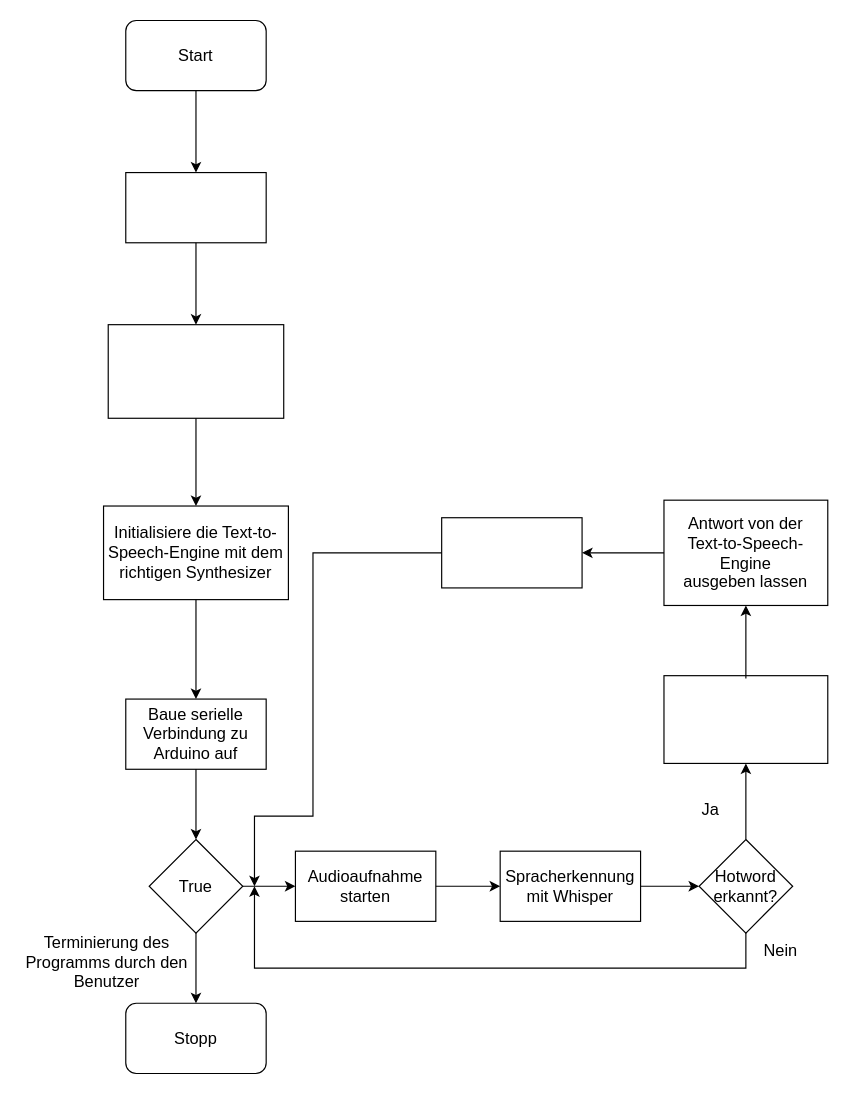
The diagram is 848 pixels wide and 1094 high, and some of its shapes have lost their labels. The shapes that lost their labels are listed below. From the top down, each one's centre as x and y in pixels, then its label:
the point at 195,207: Initialisiere Recognizer und Mikrofon
the point at 195,371: Passe Mikrofonempfindlichkeit an die Umgebungsgeräusche an
the point at 511,552: Kommando an den Arduino übertragen
the point at 745,719: Klassifizierungsmodell aufrufen und Antwort und Kommando erhalten
